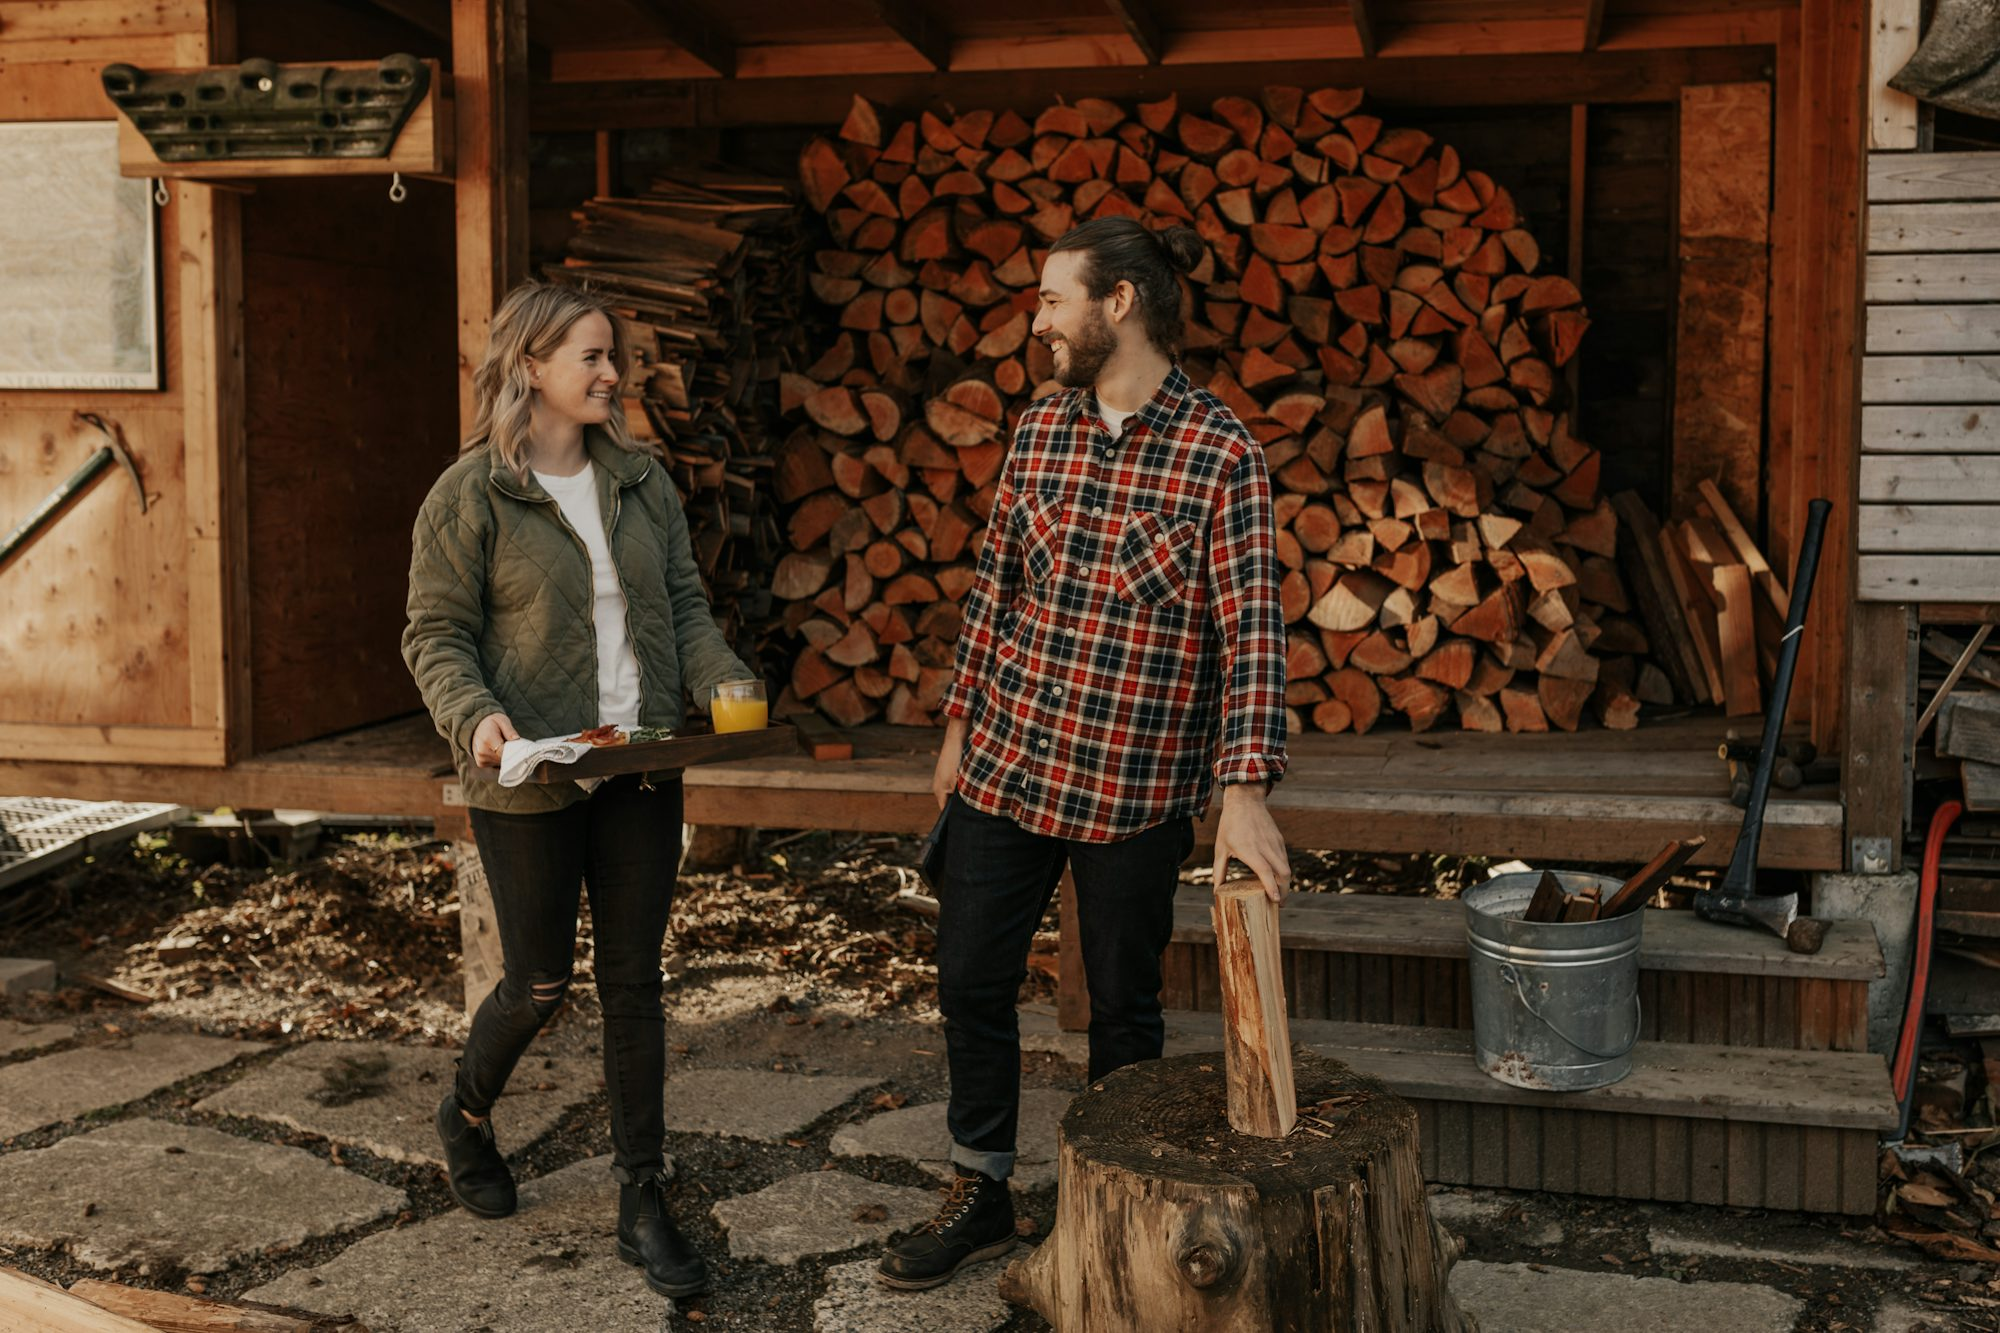door: (213, 171, 463, 767)
person: (854, 221, 1367, 1292), (376, 280, 793, 1317)
